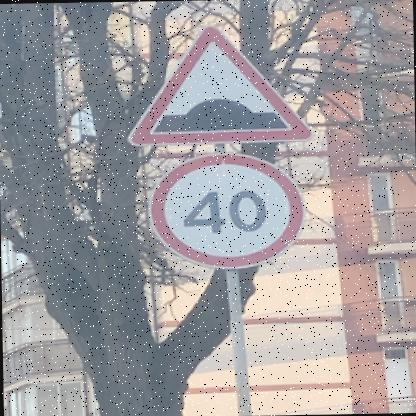speedlimit: (146, 150, 302, 266)
